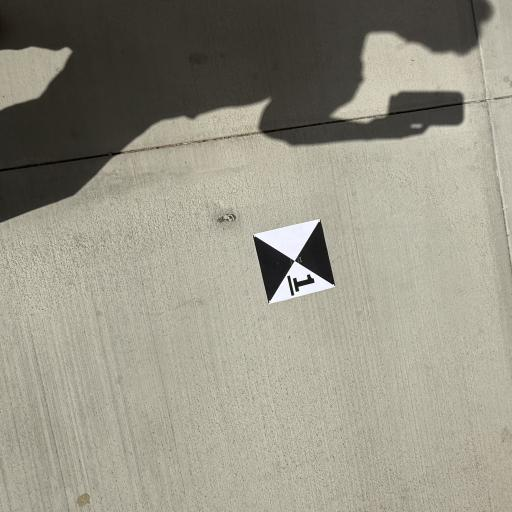target1: (246, 218, 342, 307)
